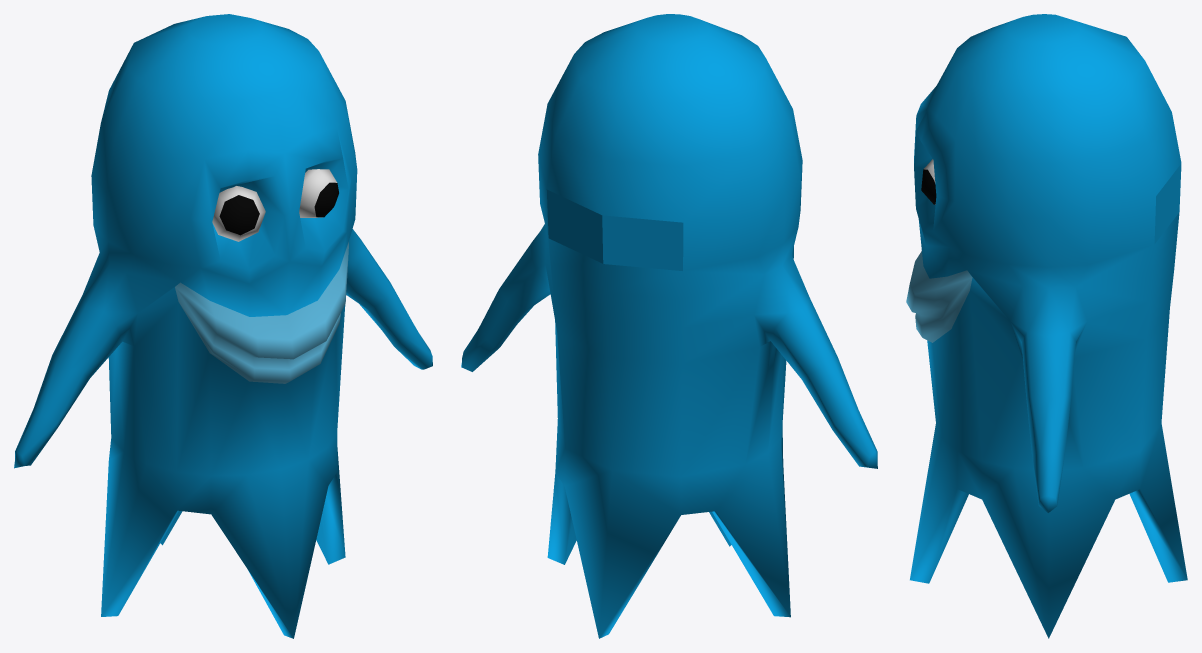
File: inky.FBX
The picture shows the model from 3 angles, left to right: view 1: azimuth 30°, elevation 25°; view 2: azimuth 150°, elevation 25°; view 3: azimuth 270°, elevation 25°; orthographic projection.
Visible parts, largest first — view 1: Inky final; view 2: Inky final; view 3: Inky final.
Part boxes in pixels (x1,y1,x2,y2): Inky final: [14, 14, 432, 638]; Inky final: [461, 14, 877, 638]; Inky final: [906, 14, 1187, 638].
Bounding box in the file's own units: 2.09 × 2.68 × 1.24.
